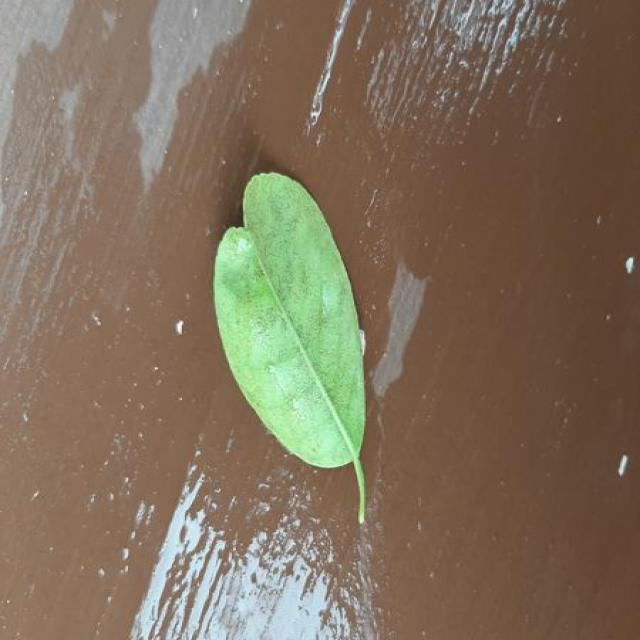lemon: (215, 172, 365, 522)
